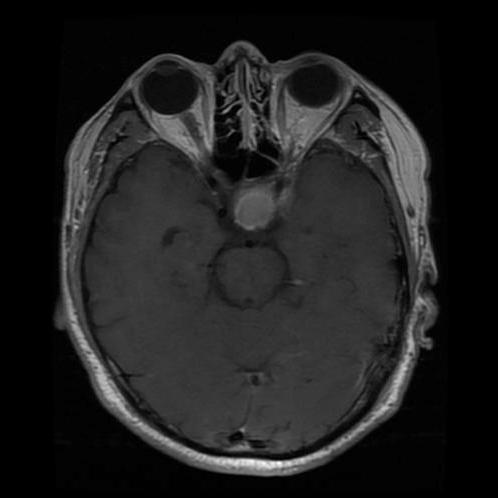Tumour-Pituitary: (236, 181, 277, 238)
